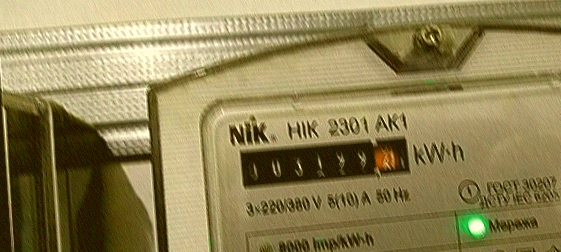0: (271, 157, 284, 176), (248, 159, 259, 178)
1: (315, 151, 325, 169)
3: (293, 155, 305, 176)
6: (381, 154, 392, 168)
9: (336, 148, 347, 169), (358, 148, 369, 167)
screen: (233, 127, 418, 194)
